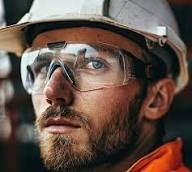safety_goggles: (0, 38, 191, 95)
